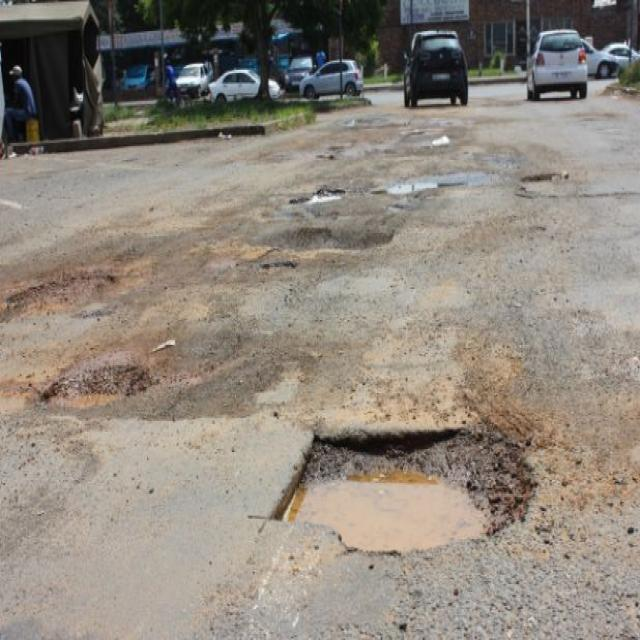pothole: (266, 414, 538, 562)
